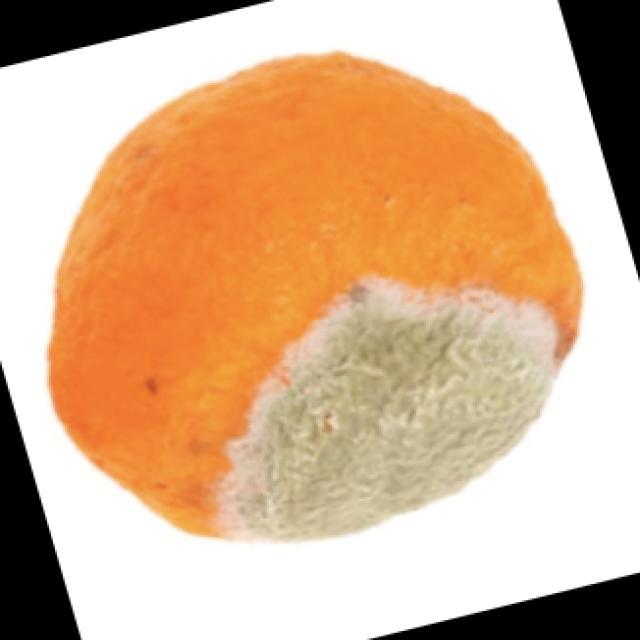sedikit-busuk: (49, 54, 581, 539), (220, 280, 556, 539)
